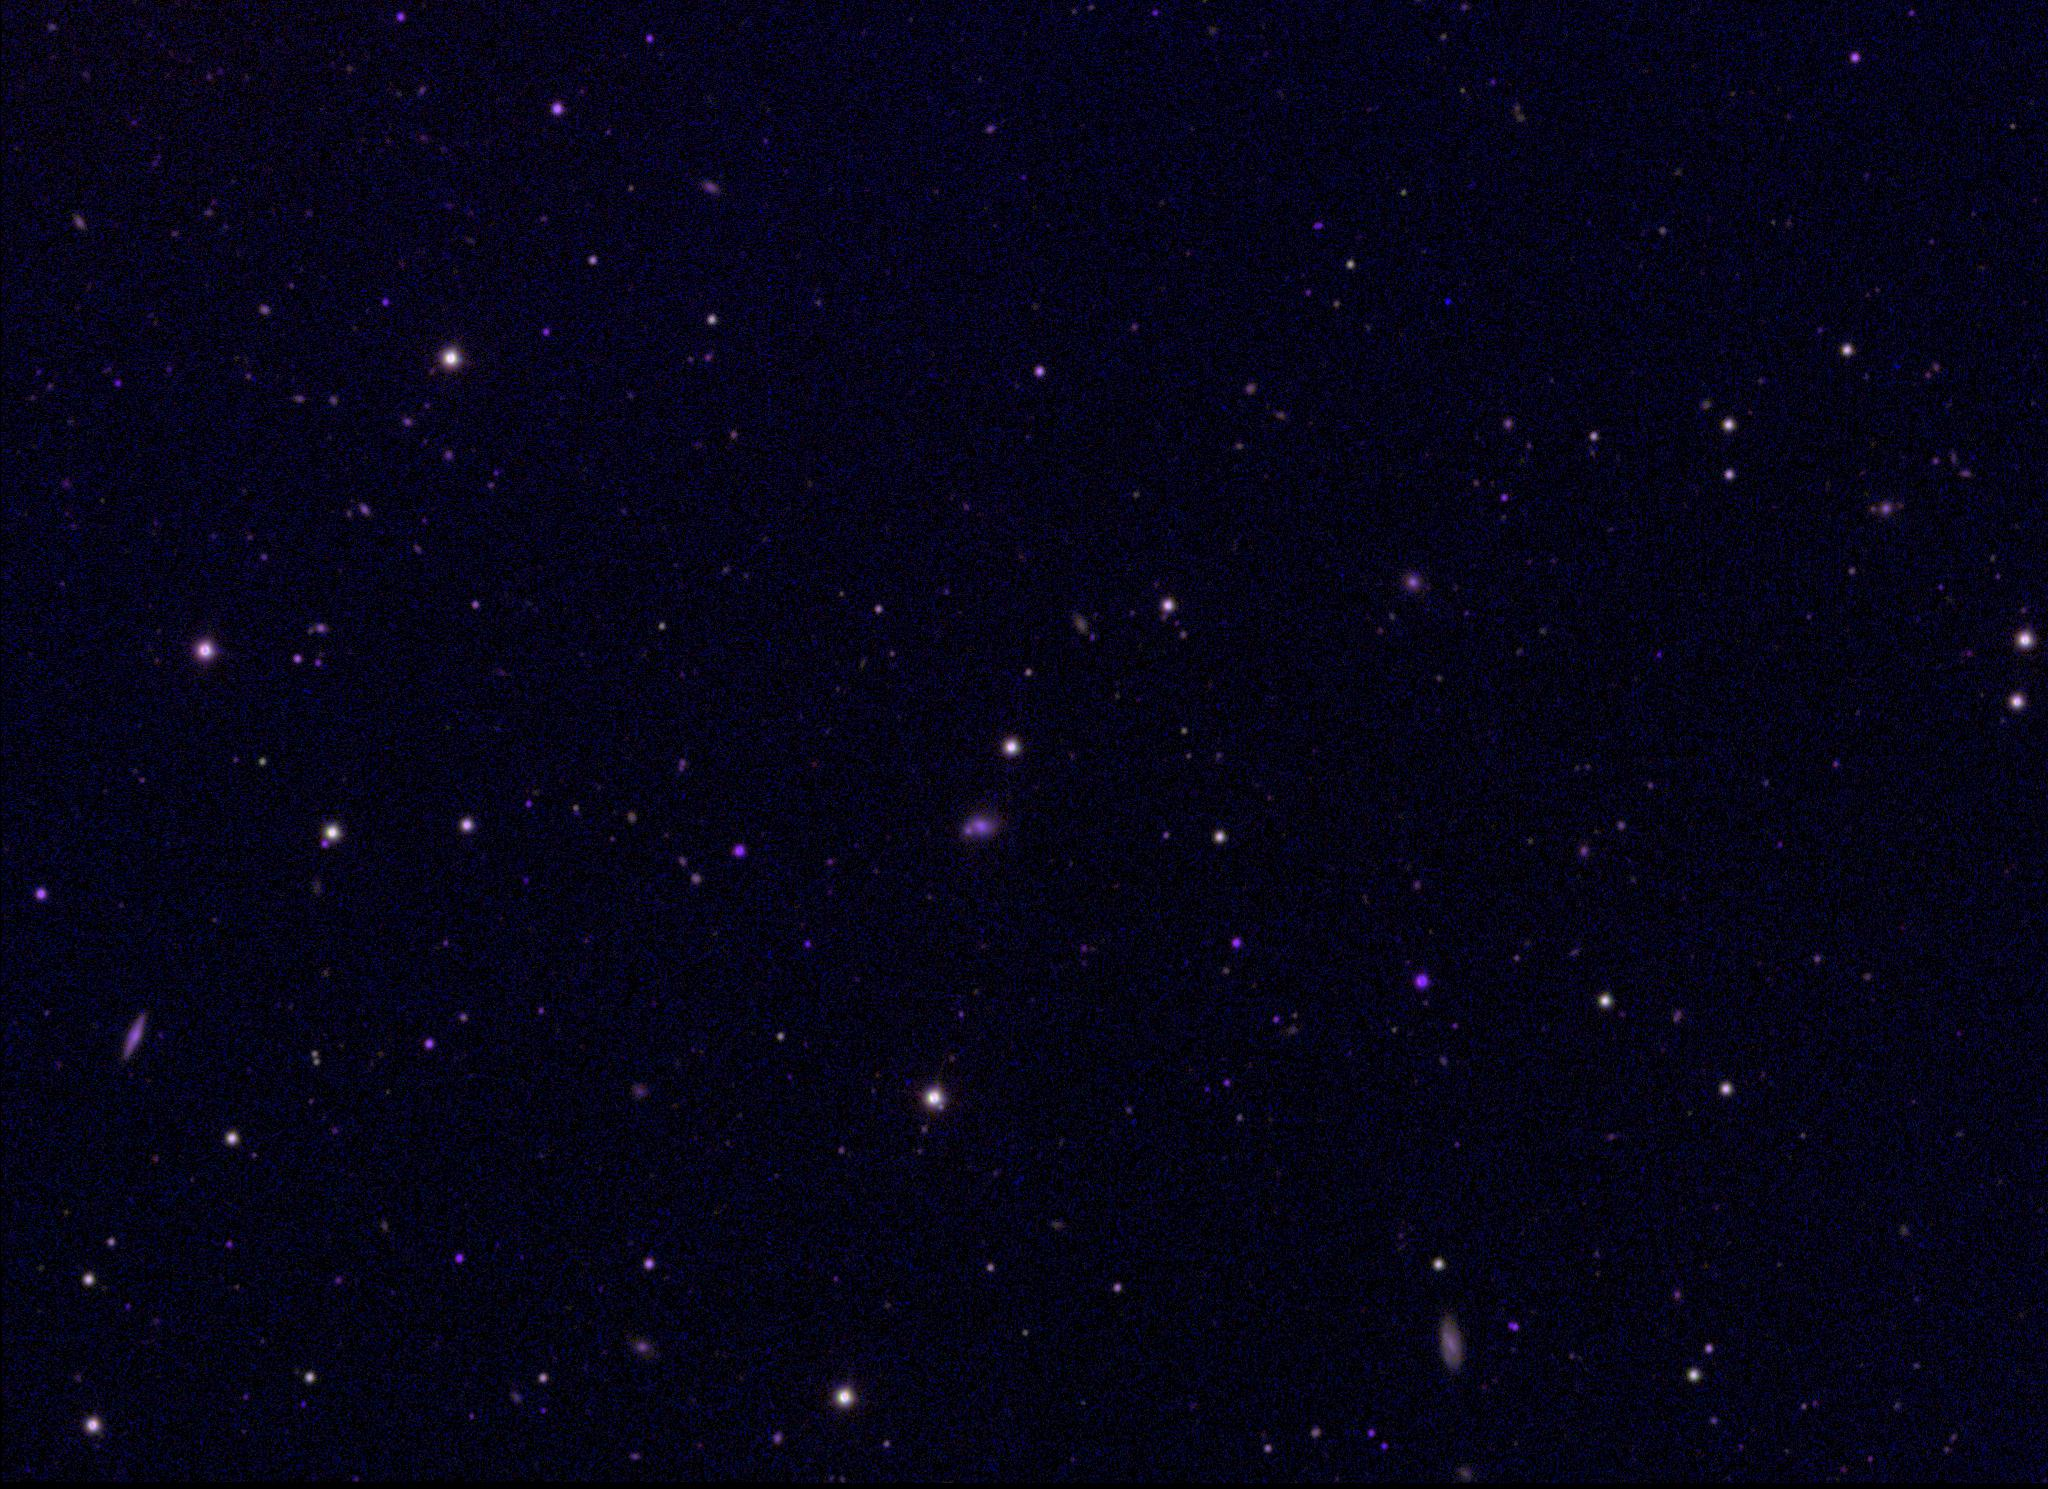L: (1441, 294, 1455, 309)
